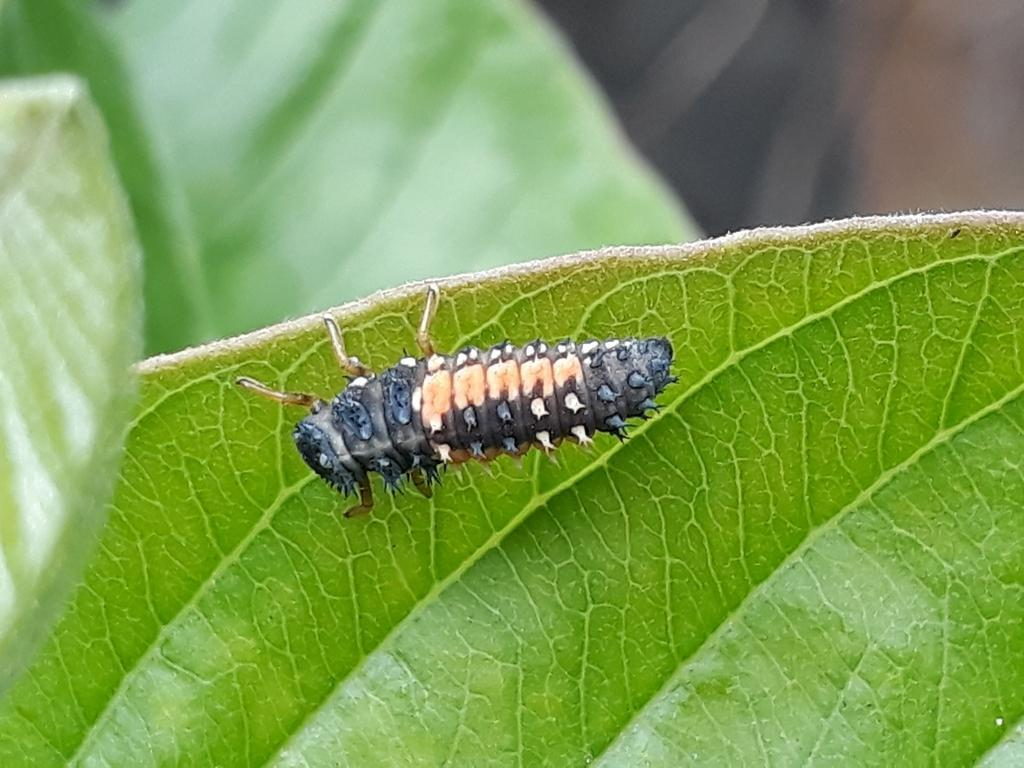ladybug: (231, 277, 687, 525)
